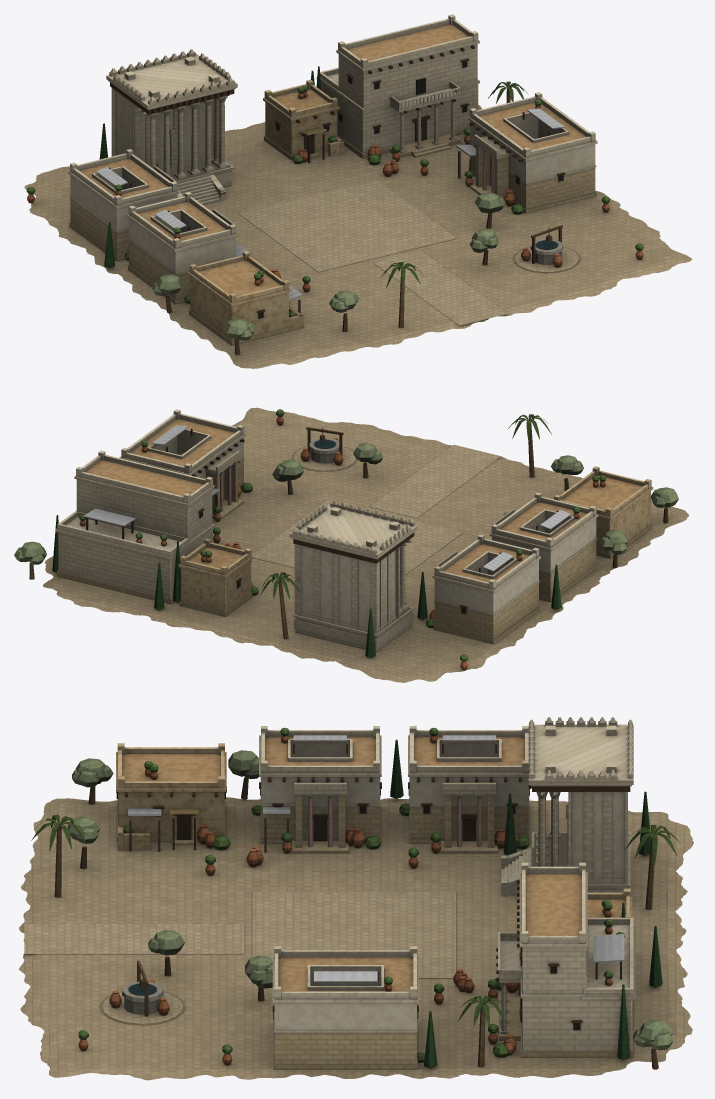
Rendered from classical-town-small-a-levant.glb.
The picture shows the model from 3 angles, top to bottom: view 1: azimuth 30°, elevation 25°; view 2: azimuth 150°, elevation 25°; view 3: azimuth 270°, elevation 25°; orthographic projection. The views are drawn at different scales.
Visible parts, largest first — view 1: LOD0; view 2: LOD0; view 3: LOD0.
Boxes of the visible parts, x1,y1,x2,y2 form: LOD0: (24,14,691,368); LOD0: (14,407,688,682); LOD0: (18,717,693,1080).
Size of what is drawn, in the model's own units: 4.06 by 0.93 by 4.06.
Materials: 3 (3 with a texture image).
